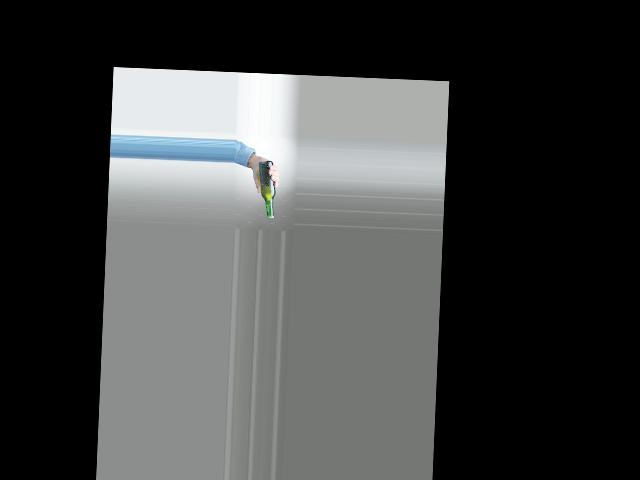beer: (255, 160, 276, 219)
